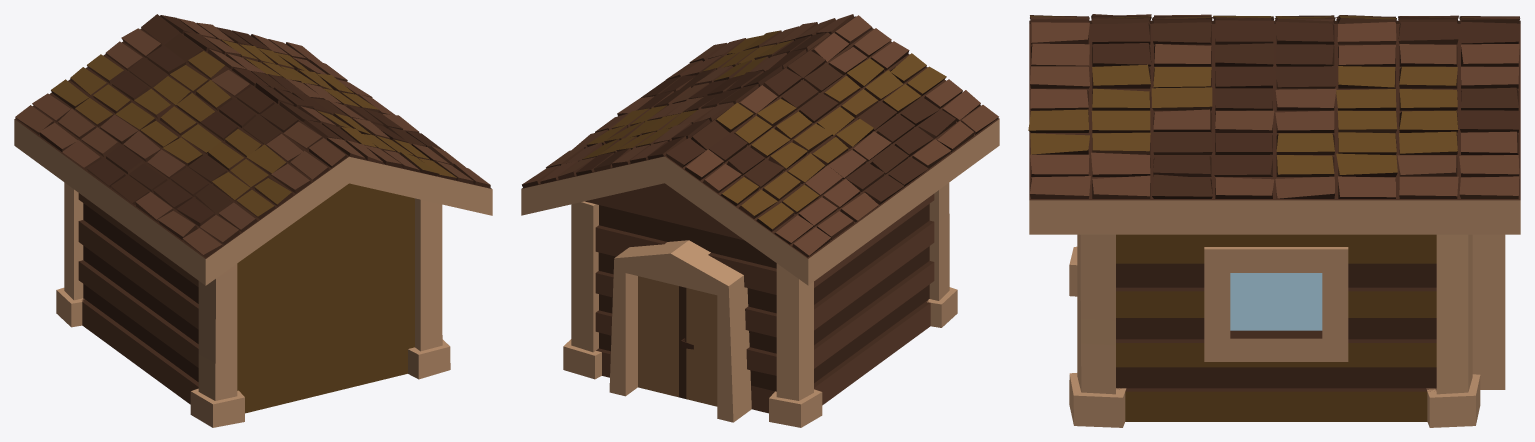
The model's file is c155fbfa-8606-4b39-8068-532ae95ede0c.glb.
The picture shows the model from 3 angles, left to right: view 1: azimuth 30°, elevation 25°; view 2: azimuth 150°, elevation 25°; view 3: azimuth 270°, elevation 25°; orthographic projection. The views are drawn at different scales.
Visible parts, largest first — view 1: Cube; view 2: Cube; view 3: Cube.
Boxes of the visible parts, bbox=[...] form: Cube: bbox=[14, 14, 492, 427]; Cube: bbox=[521, 14, 999, 427]; Cube: bbox=[1028, 14, 1520, 427].
Bounding box in the file's own units: 7.13 × 6.09 × 8.17.
Materials: 1 (1 with a texture image).
